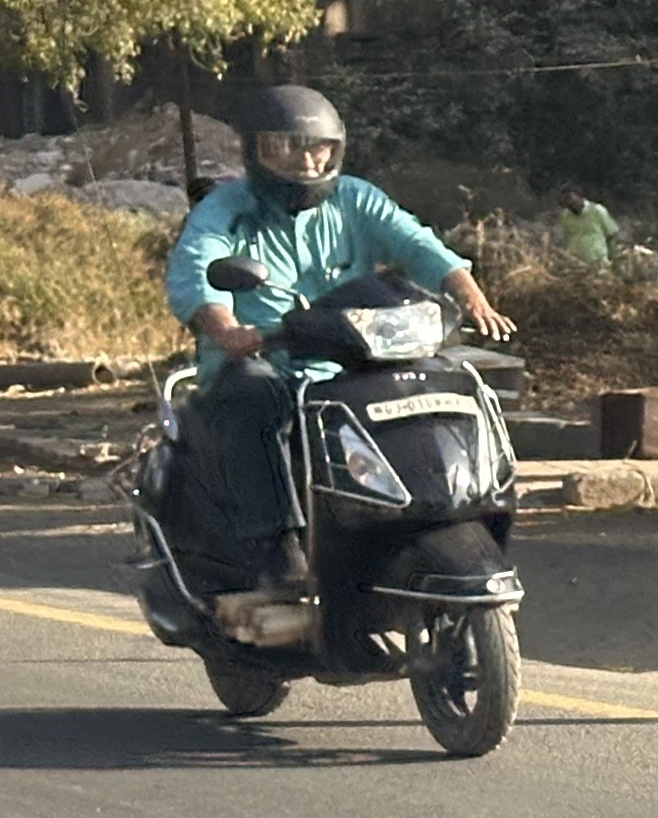BikeWithRider: (99, 72, 541, 766)
Helmet: (223, 75, 361, 214)
